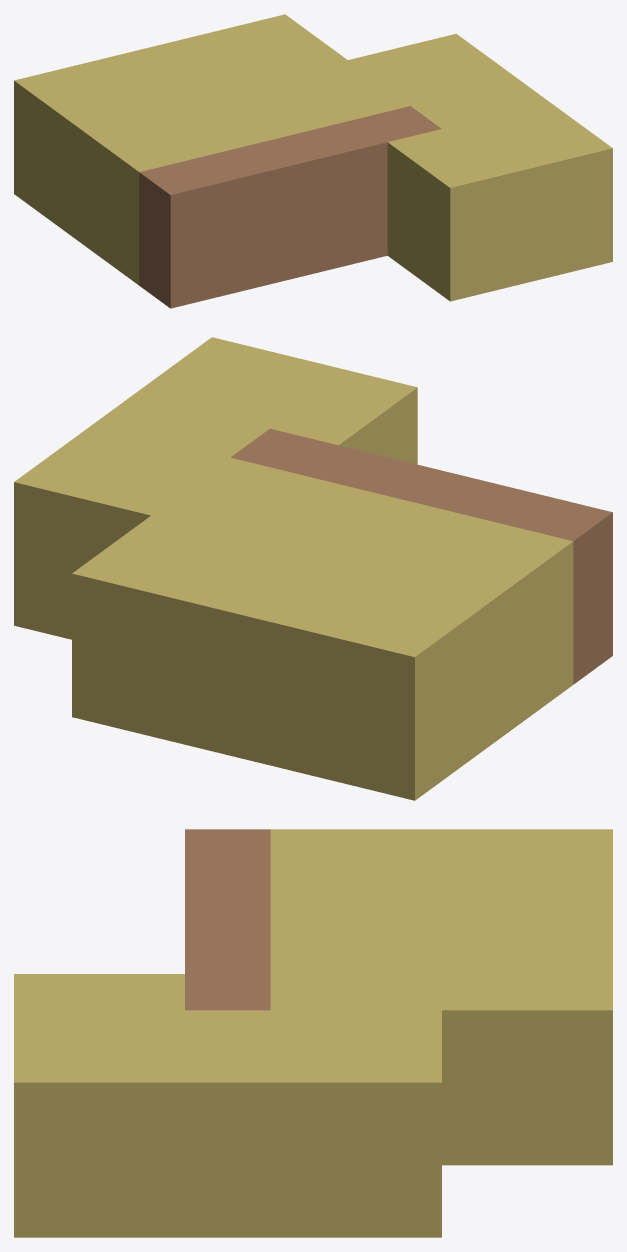
The model's file is moneda_suelta_oxidado_01.glb.
3 views of the same model, one above another, from view 1: azimuth 30°, elevation 25°; view 2: azimuth 150°, elevation 25°; view 3: azimuth 270°, elevation 25° (orthographic). The views are drawn at different scales.
Visible parts, largest first — view 1: moneda_suelta_oxidado; view 2: moneda_suelta_oxidado; view 3: moneda_suelta_oxidado.
Part boxes in pixels (x1,y1,x2,y2): moneda_suelta_oxidado: (14, 14, 612, 308); moneda_suelta_oxidado: (14, 337, 612, 800); moneda_suelta_oxidado: (14, 829, 612, 1237).
Size of the model in its own units: 0.7 by 0.2 by 0.7.
